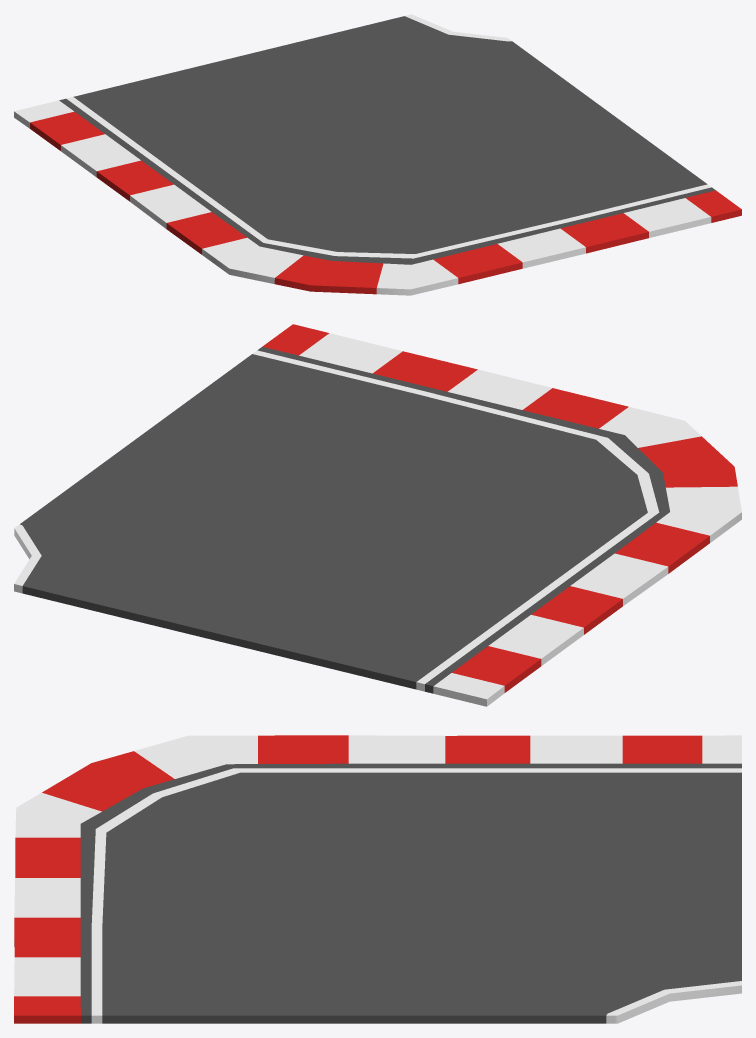
File: Track 90d side 1.fbx
The picture shows the model from 3 angles, top to bottom: view 1: azimuth 30°, elevation 25°; view 2: azimuth 150°, elevation 25°; view 3: azimuth 270°, elevation 25°; orthographic projection. The views are drawn at different scales.
Visible parts, largest first — view 1: Track 90D Side; view 2: Track 90D Side; view 3: Track 90D Side.
Part boxes in pixels (x1,y1,x2,y2): Track 90D Side: [14, 14, 741, 295]; Track 90D Side: [14, 324, 741, 706]; Track 90D Side: [14, 735, 741, 1023].
Size of the model in its own units: 1238 by 16.72 by 1360.
